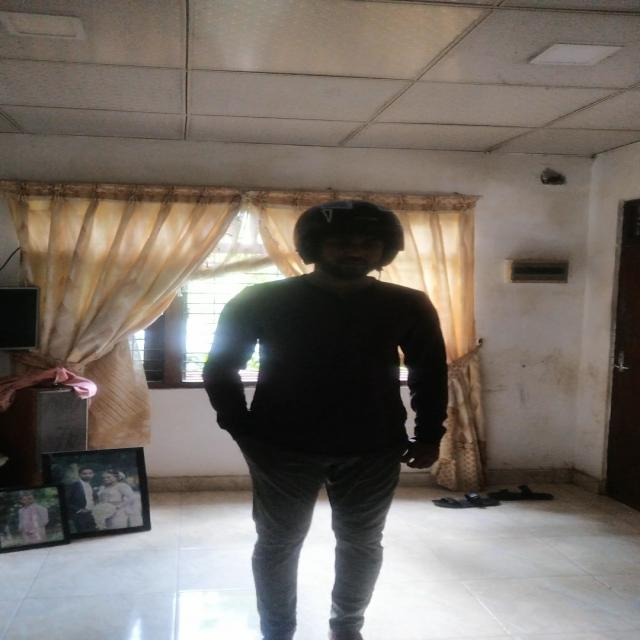Helmet_Wearer: (283, 195, 409, 287)
Person: (164, 188, 453, 640)
